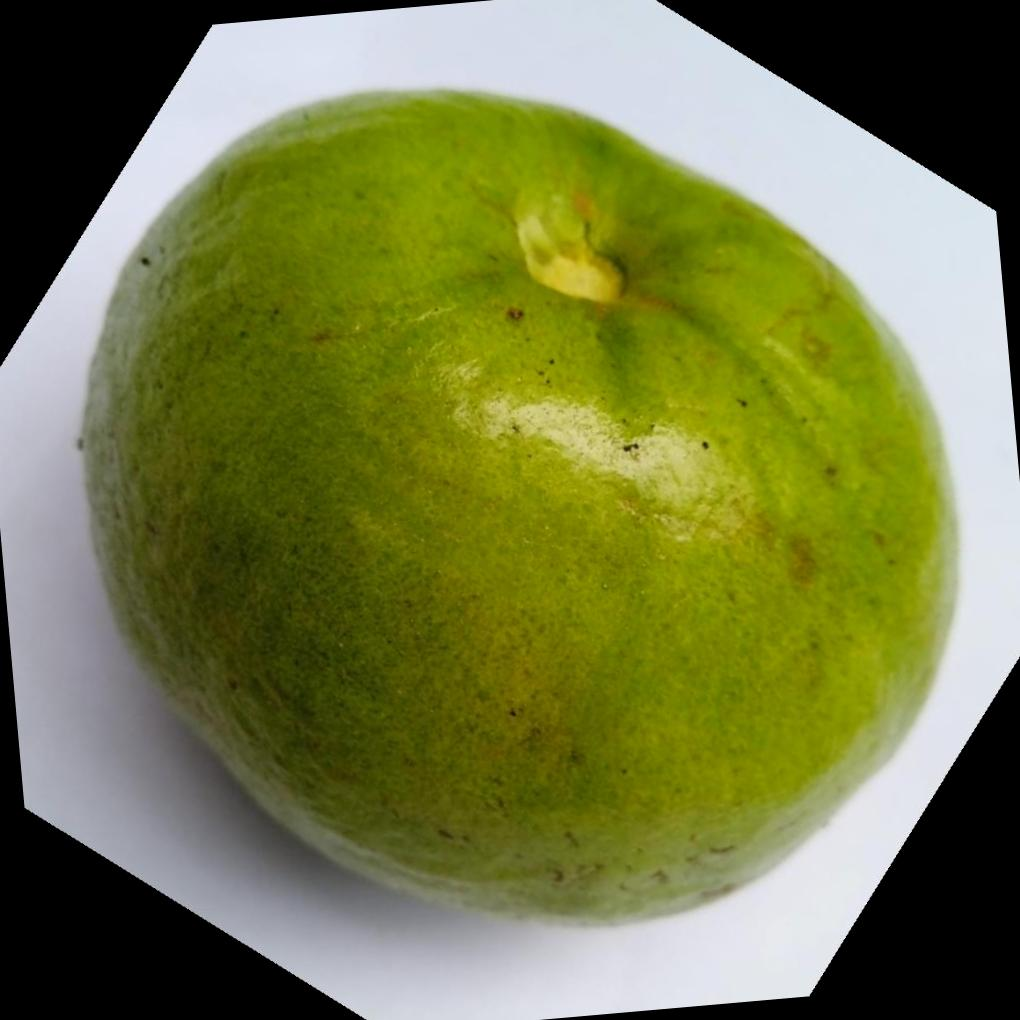FreshGuava: (74, 87, 968, 933)
